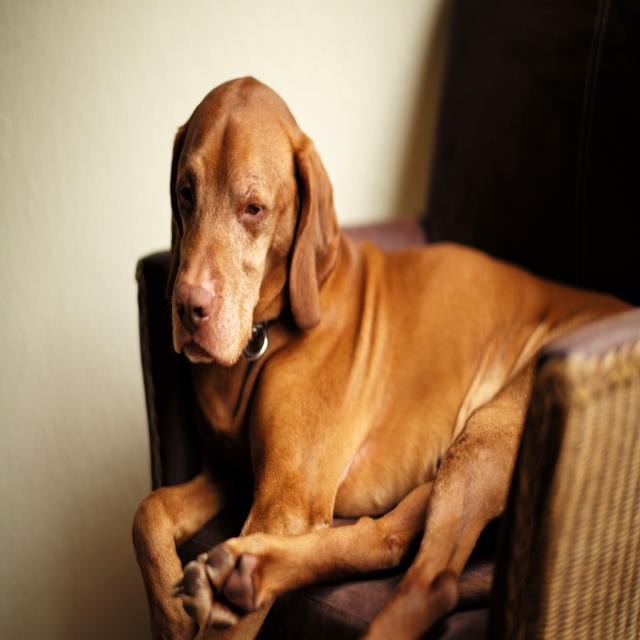Dog: (129, 73, 639, 638)
